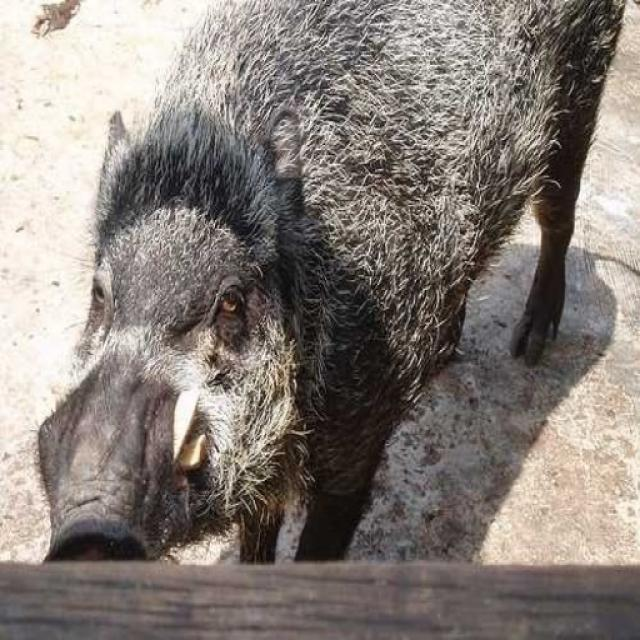pig: (83, 5, 609, 640)
